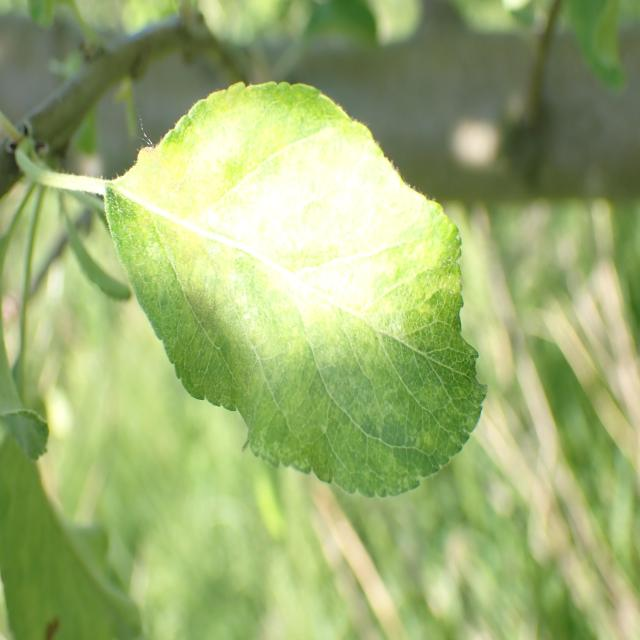scab: (147, 174, 447, 480)
